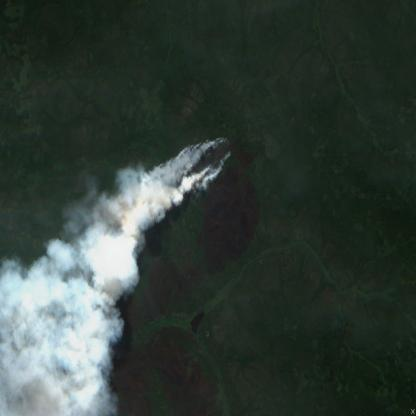fire: (133, 133, 234, 224)
